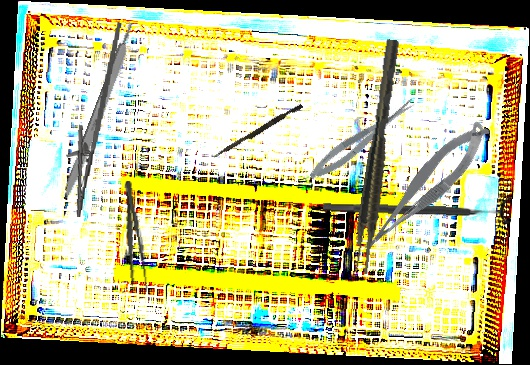Dressing Forceps: (118, 179, 151, 295)
Fixation Ring: (322, 192, 512, 225)
Micro Scissor: (345, 115, 503, 259), (304, 95, 421, 185)
Needle Holder: (60, 18, 123, 220)
Pusher: (212, 101, 304, 162)
Scalpel Handle: (60, 21, 140, 202)
Tissue Forceps: (349, 38, 407, 276)
